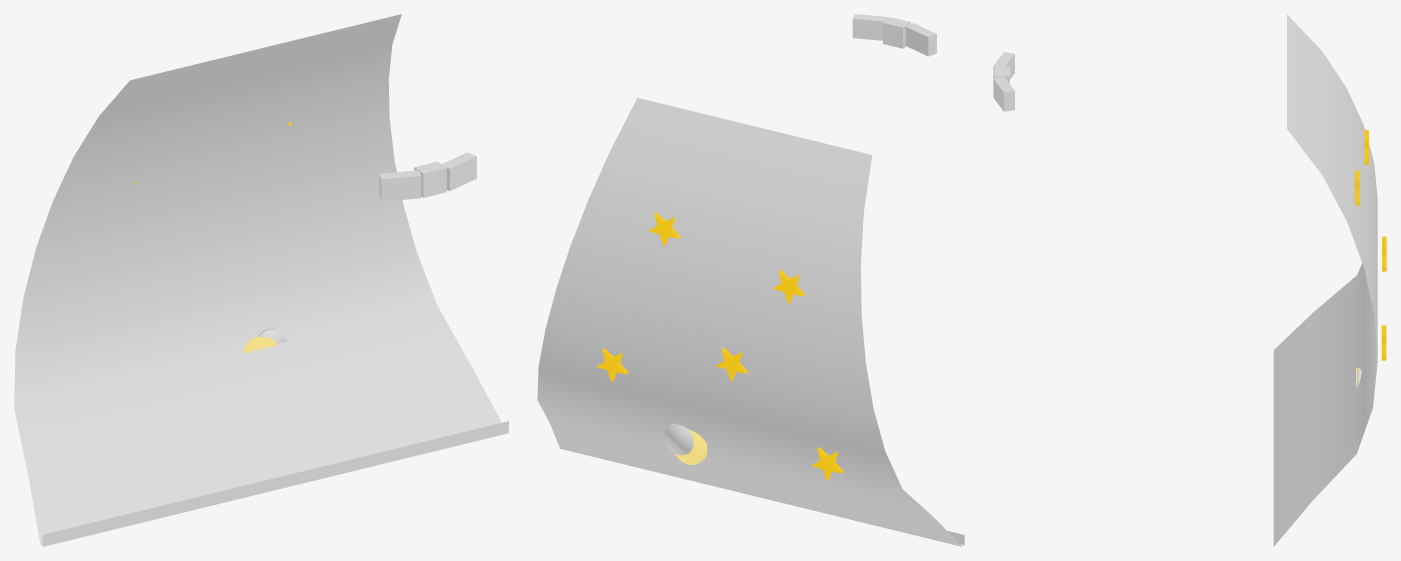
Rendered from trait-body-wizard-cape.glb.
The picture shows the model from 3 angles, left to right: view 1: azimuth 30°, elevation 25°; view 2: azimuth 150°, elevation 25°; view 3: azimuth 270°, elevation 25°; orthographic projection. The views are drawn at different scales.
Visible parts, largest first — view 1: trait_body_cape, trait_body_capehem, trait_body_bowwing_L, trait_body_bowwing_R, trait_body_bowknot; view 2: trait_body_cape, trait_body_bowwing_L, trait_body_bowwing_R, trait_body_moonbite, trait_body_bowknot, trait_body_moon; view 3: trait_body_cape, trait_body_bowwing_R.
Part boxes in pixels (left/top/right/bottom): trait_body_cape: left=14, top=14, right=501, bottom=545; trait_body_capehem: left=42, top=421, right=508, bottom=546; trait_body_bowwing_L: left=379, top=170, right=421, bottom=201; trait_body_bowwing_R: left=442, top=152, right=476, bottom=190; trait_body_bowknot: left=414, top=161, right=446, bottom=197; trait_body_cape: left=537, top=98, right=962, bottom=546; trait_body_bowwing_L: left=905, top=23, right=936, bottom=56; trait_body_bowwing_R: left=852, top=14, right=888, bottom=40; trait_body_moonbite: left=664, top=423, right=693, bottom=455; trait_body_bowknot: left=883, top=17, right=910, bottom=48; trait_body_moon: left=674, top=429, right=707, bottom=464; trait_body_cape: left=1273, top=14, right=1377, bottom=546; trait_body_bowwing_R: left=993, top=77, right=1014, bottom=111.
Size of the model in its own units: 1.2 by 1.07 by 1.01.
